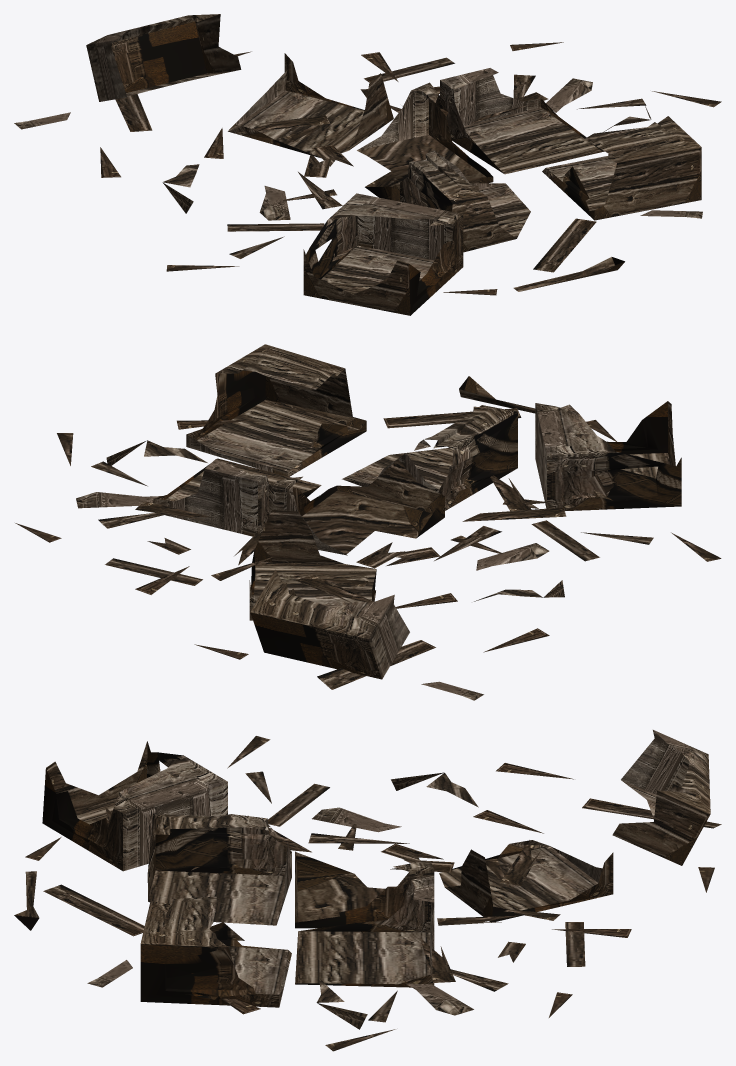
File: SM_Env_Breakables_BoxesBITS.FBX
3 renders of one model, top to bottom at view 1: azimuth 30°, elevation 25°; view 2: azimuth 150°, elevation 25°; view 3: azimuth 270°, elevation 25°, orthographic. The views are drawn at different scales.
Visible parts, largest first — view 1: SM_Env_Breakables_BoxesBITS; view 2: SM_Env_Breakables_BoxesBITS; view 3: SM_Env_Breakables_BoxesBITS.
Part boxes in pixels (x1,y1,x2,y2): SM_Env_Breakables_BoxesBITS: (14,14,721,315); SM_Env_Breakables_BoxesBITS: (15,344,721,700); SM_Env_Breakables_BoxesBITS: (14,730,721,1051).
Bounding box in the file's own units: 135 × 128 × 16.91.
